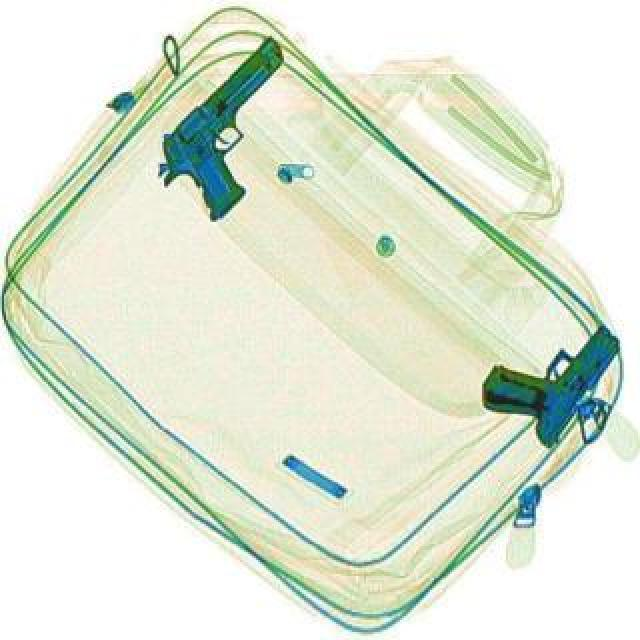gun: (136, 36, 348, 234), (472, 294, 638, 454)
